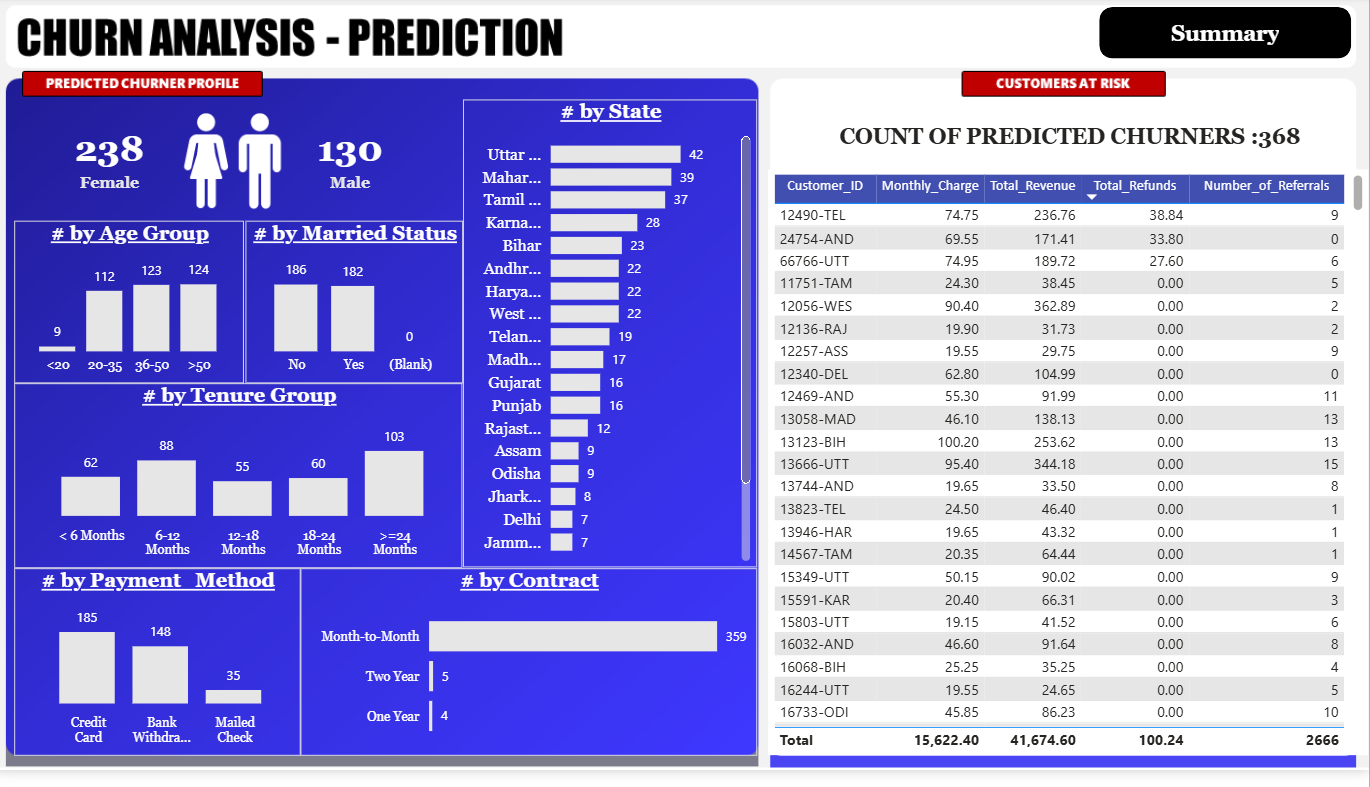

The dashboard page shown, as its layout file describes it:
{"tool":"powerbi","page":{"name":"Churn Prediction","canvas":[1280,720],"ordinal":2},"visuals":[{"type":"image","box":[153.4,95.7,138.7,112.9],"z":0},{"type":"tableEx","fields":{"Values":["pred_churn_customer_info.Customer_ID","Sum(pred_churn_customer_info.Monthly_Charge)","Sum(pred_churn_customer_info.Total_Revenue)","Sum(pred_churn_customer_info.Total_Refunds)","Sum(pred_churn_customer_info.Number_of_Referrals)"]},"box":[721.5,160.7,558.3,544.8],"z":1000},{"type":"cardVisual","fields":{"Data":["Tbl_measures.Title Predicted Churner"]},"box":[741.1,96.9,522.7,63.8],"z":2000},{"type":"cardVisual","fields":{"Data":["Tbl_measures.Count Predicted Churner"]},"box":[19.6,95.7,177.9,112.9],"z":3000},{"type":"cardVisual","fields":{"Data":["Tbl_measures.Count Predicted Churner"]},"box":[247.9,95.7,169.3,112.9],"z":4000},{"type":"clusteredColumnChart","fields":{"Category":["mapping_ageGrp.Age Group"],"Y":["CountNonNull(pred_churn_customer_info.Customer_ID)"]},"box":[19.6,208.6,213.5,150.9],"z":5000},{"type":"clusteredColumnChart","fields":{"Category":["pred_churn_customer_info.Married"],"Y":["Tbl_measures.Count Predicted Churner"]},"box":[234.4,208.6,202.5,150.9],"z":6000},{"type":"clusteredColumnChart","fields":{"Y":["CountNonNull(pred_churn_customer_info.Customer_ID)"],"Category":["mapping_tenure.Tenure Group"]},"box":[19.6,359.5,417.2,171.8],"z":7000},{"type":"clusteredColumnChart","fields":{"Y":["CountNonNull(pred_churn_customer_info.Customer_ID)"],"Category":["pred_churn_customer_info.Payment_Method"]},"box":[19.6,531.3,266.3,174.2],"z":8000},{"type":"clusteredBarChart","fields":{"Category":["pred_churn_customer_info.Contract"],"Y":["CountNonNull(pred_churn_customer_info.Customer_ID)"]},"box":[285.9,531.3,424.5,174.2],"z":9000},{"type":"clusteredBarChart","fields":{"Category":["pred_churn_customer_info.State"],"Y":["CountNonNull(pred_churn_customer_info.Customer_ID)"]},"box":[436.8,95.7,273.6,435.6],"z":10000},{"type":"shape","box":[1029.5,9.8,234.4,47.9],"z":10001}]}

Visuals, with their boxes in screenshot pixels (x1, y1, x2, y2), scaled from the page's 1280x720 canvas onto the 1370x787 screenshot:
image: bbox=[164, 105, 313, 228]
tableEx - pred_churn_customer_info.Customer_ID x Sum(pred_churn_customer_info.Monthly_Charge): bbox=[772, 176, 1369, 771]
cardVisual - Tbl_measures.Title Predicted Churner: bbox=[793, 106, 1353, 176]
cardVisual - Tbl_measures.Count Predicted Churner: bbox=[21, 105, 211, 228]
cardVisual - Tbl_measures.Count Predicted Churner: bbox=[265, 105, 447, 228]
clusteredColumnChart - mapping_ageGrp.Age Group x CountNonNull(pred_churn_customer_info.Customer_ID): bbox=[21, 228, 249, 393]
clusteredColumnChart - pred_churn_customer_info.Married x Tbl_measures.Count Predicted Churner: bbox=[251, 228, 468, 393]
clusteredColumnChart - CountNonNull(pred_churn_customer_info.Customer_ID) x mapping_tenure.Tenure Group: bbox=[21, 393, 468, 581]
clusteredColumnChart - CountNonNull(pred_churn_customer_info.Customer_ID) x pred_churn_customer_info.Payment_Method: bbox=[21, 581, 306, 771]
clusteredBarChart - pred_churn_customer_info.Contract x CountNonNull(pred_churn_customer_info.Customer_ID): bbox=[306, 581, 760, 771]
clusteredBarChart - pred_churn_customer_info.State x CountNonNull(pred_churn_customer_info.Customer_ID): bbox=[468, 105, 760, 581]
shape: bbox=[1102, 11, 1353, 63]
